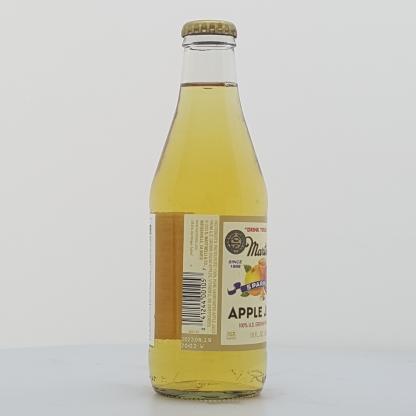------------------296ML: (148, 20, 268, 400)
